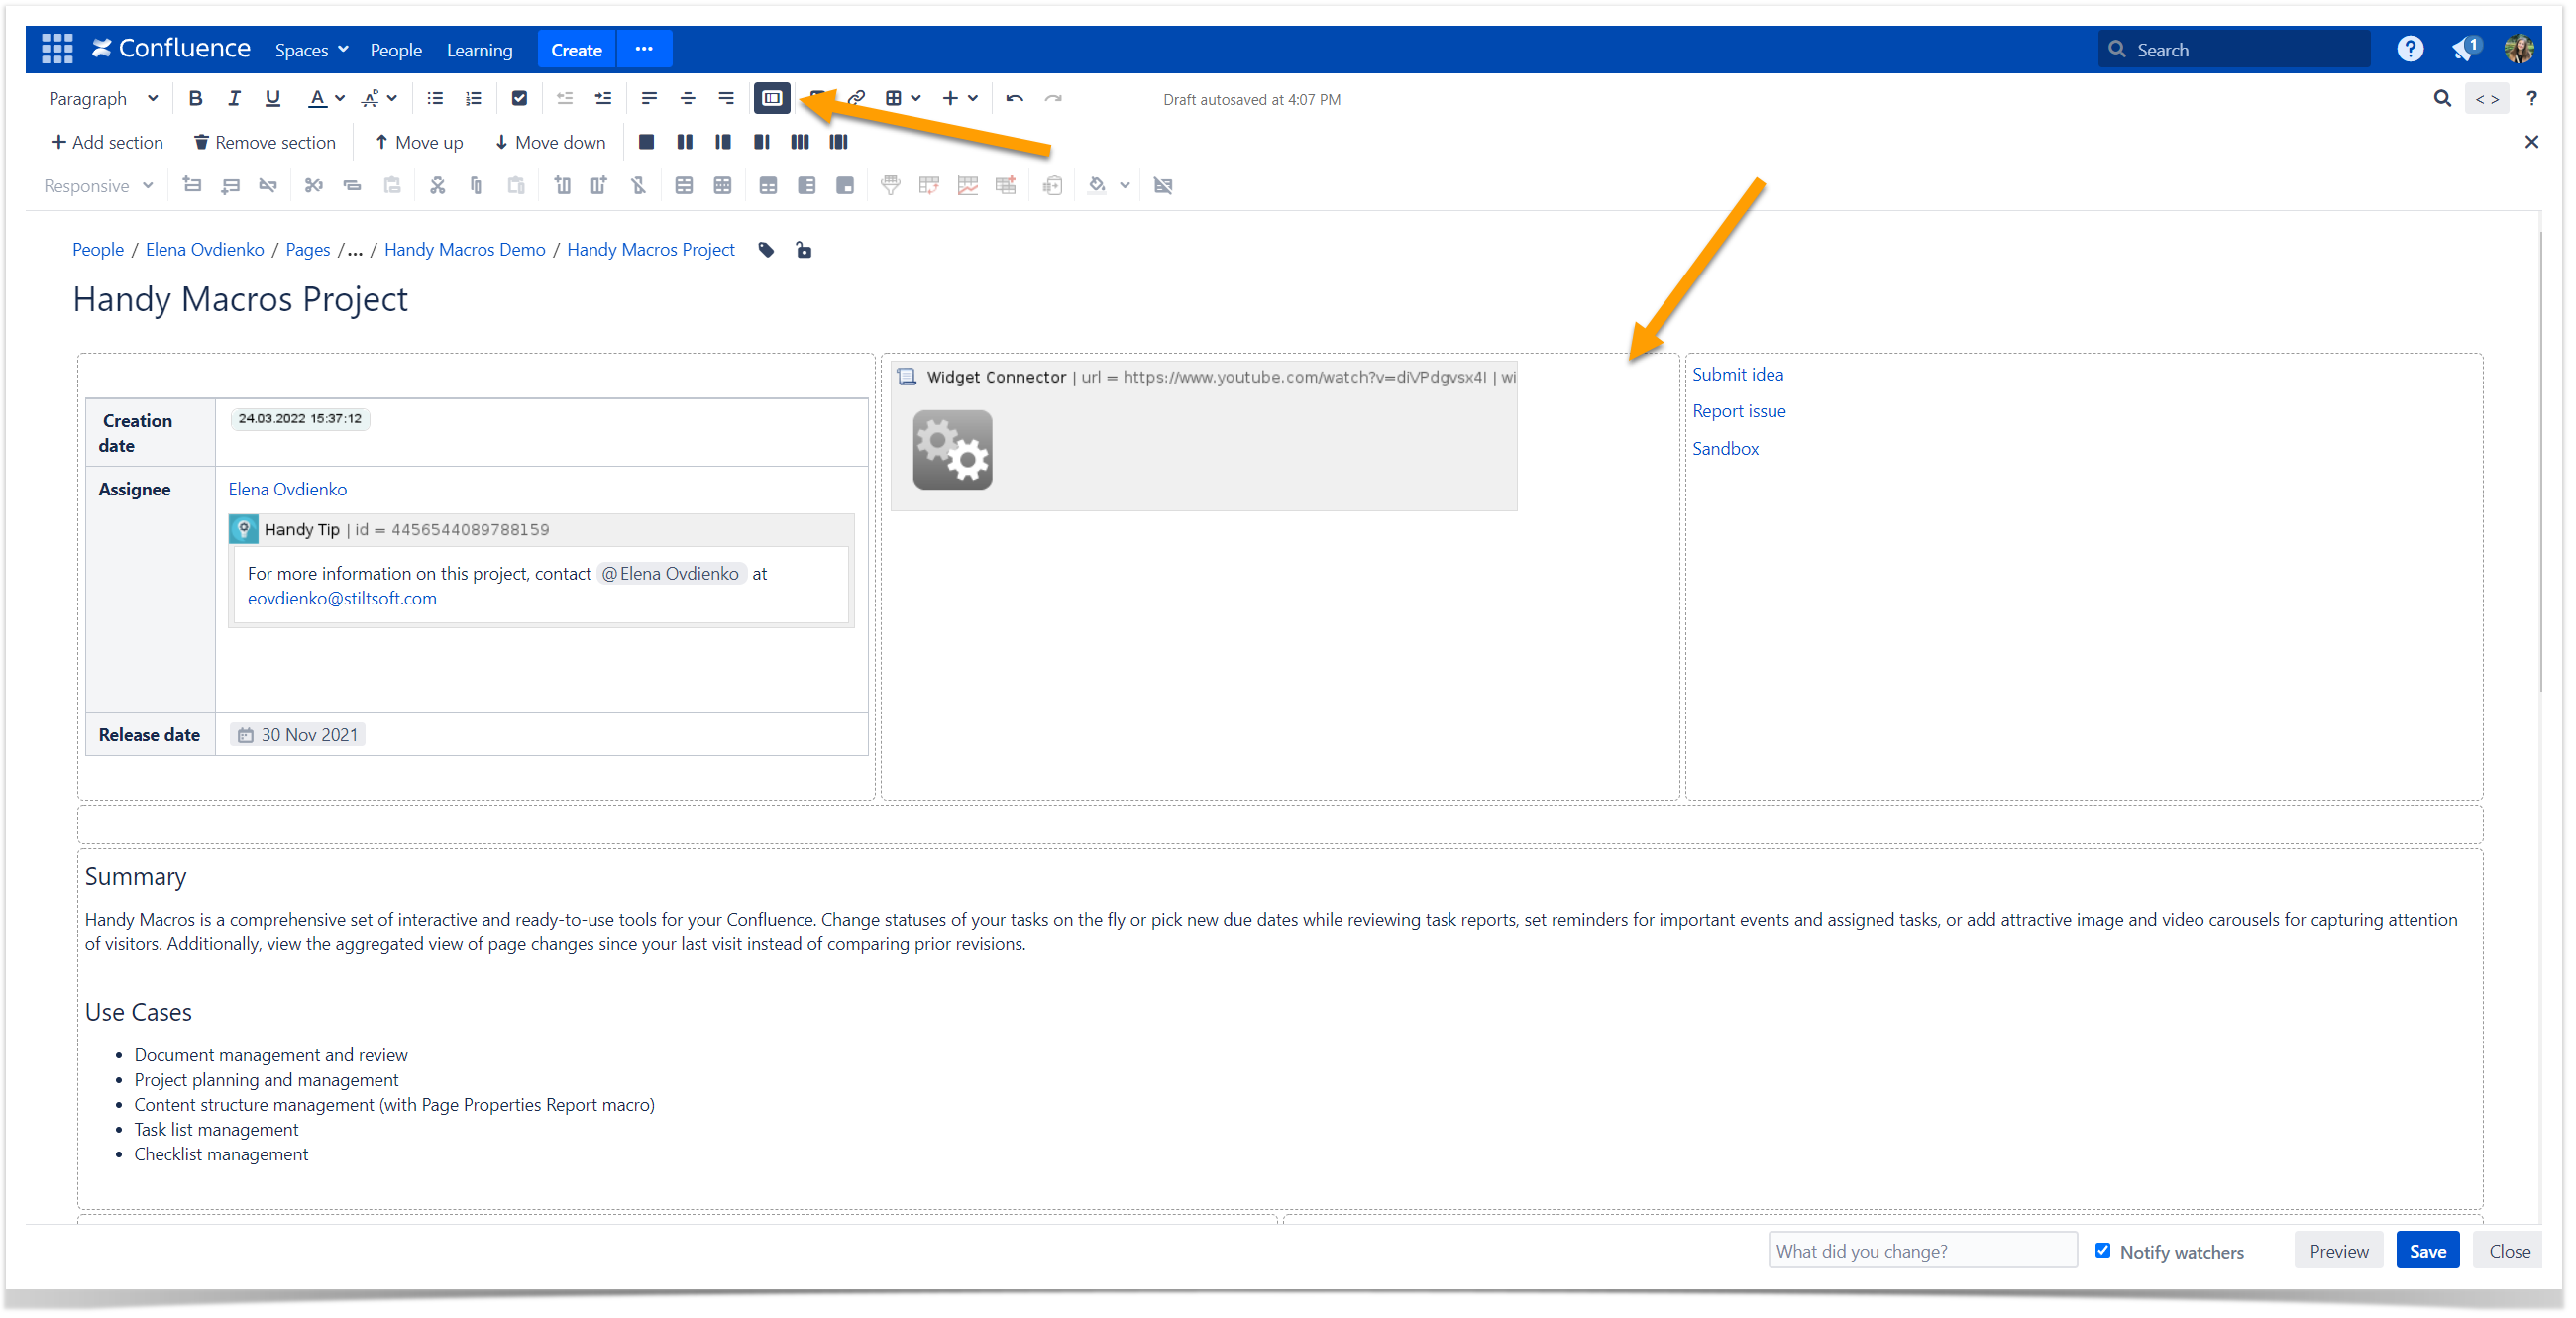button_create: (533, 25, 617, 79)
search_box: (2097, 27, 2379, 81)
